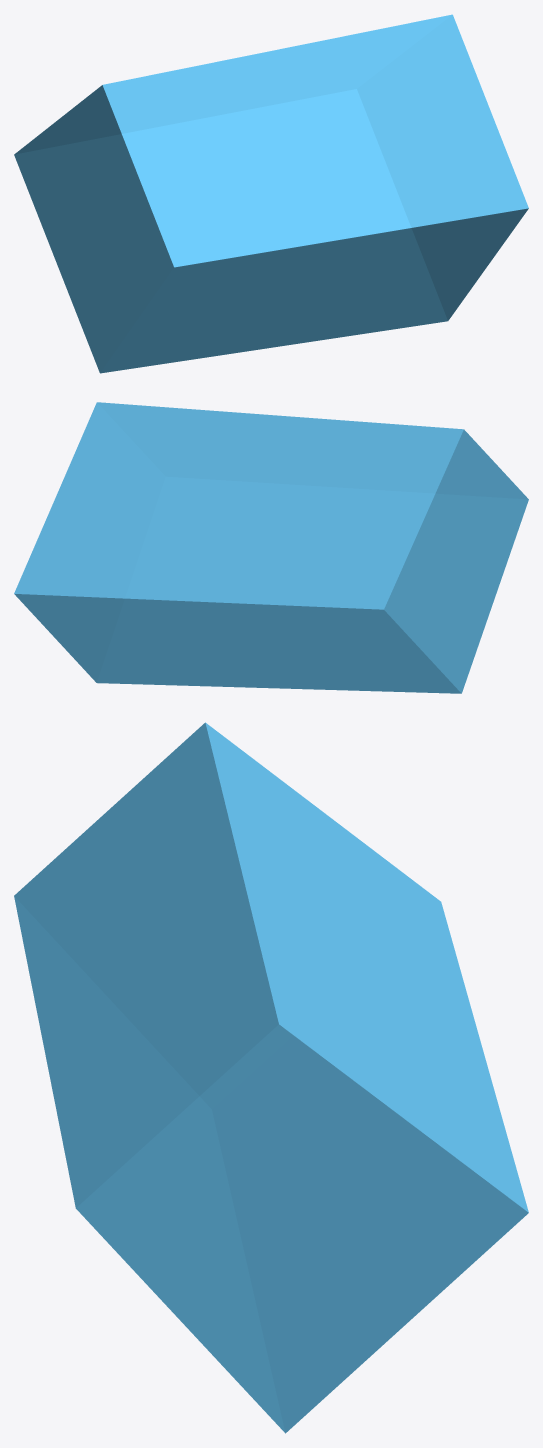
The model's file is Event_421364160_HErechit_24.fbx.
3 renders of one model, top to bottom at view 1: azimuth 30°, elevation 25°; view 2: azimuth 150°, elevation 25°; view 3: azimuth 270°, elevation 25°, orthographic. The views are drawn at different scales.
Visible parts, largest first — view 1: Model; view 2: Model; view 3: Model.
Part boxes in pixels (left/top/right/bottom): Model: left=14, top=14, right=528, bottom=373; Model: left=14, top=402, right=528, bottom=693; Model: left=14, top=722, right=528, bottom=1433.
Size of the model in its own units: 0.63 by 0.5576 by 0.5576.
